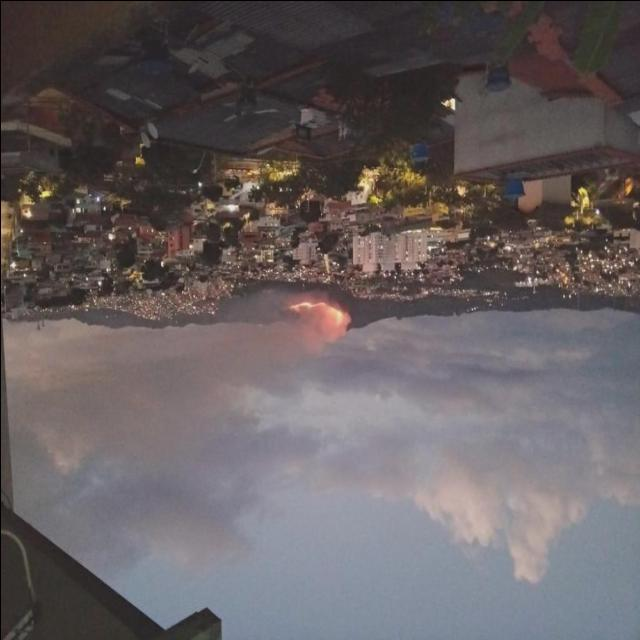Fire: (290, 300, 325, 310), (329, 306, 343, 322)
